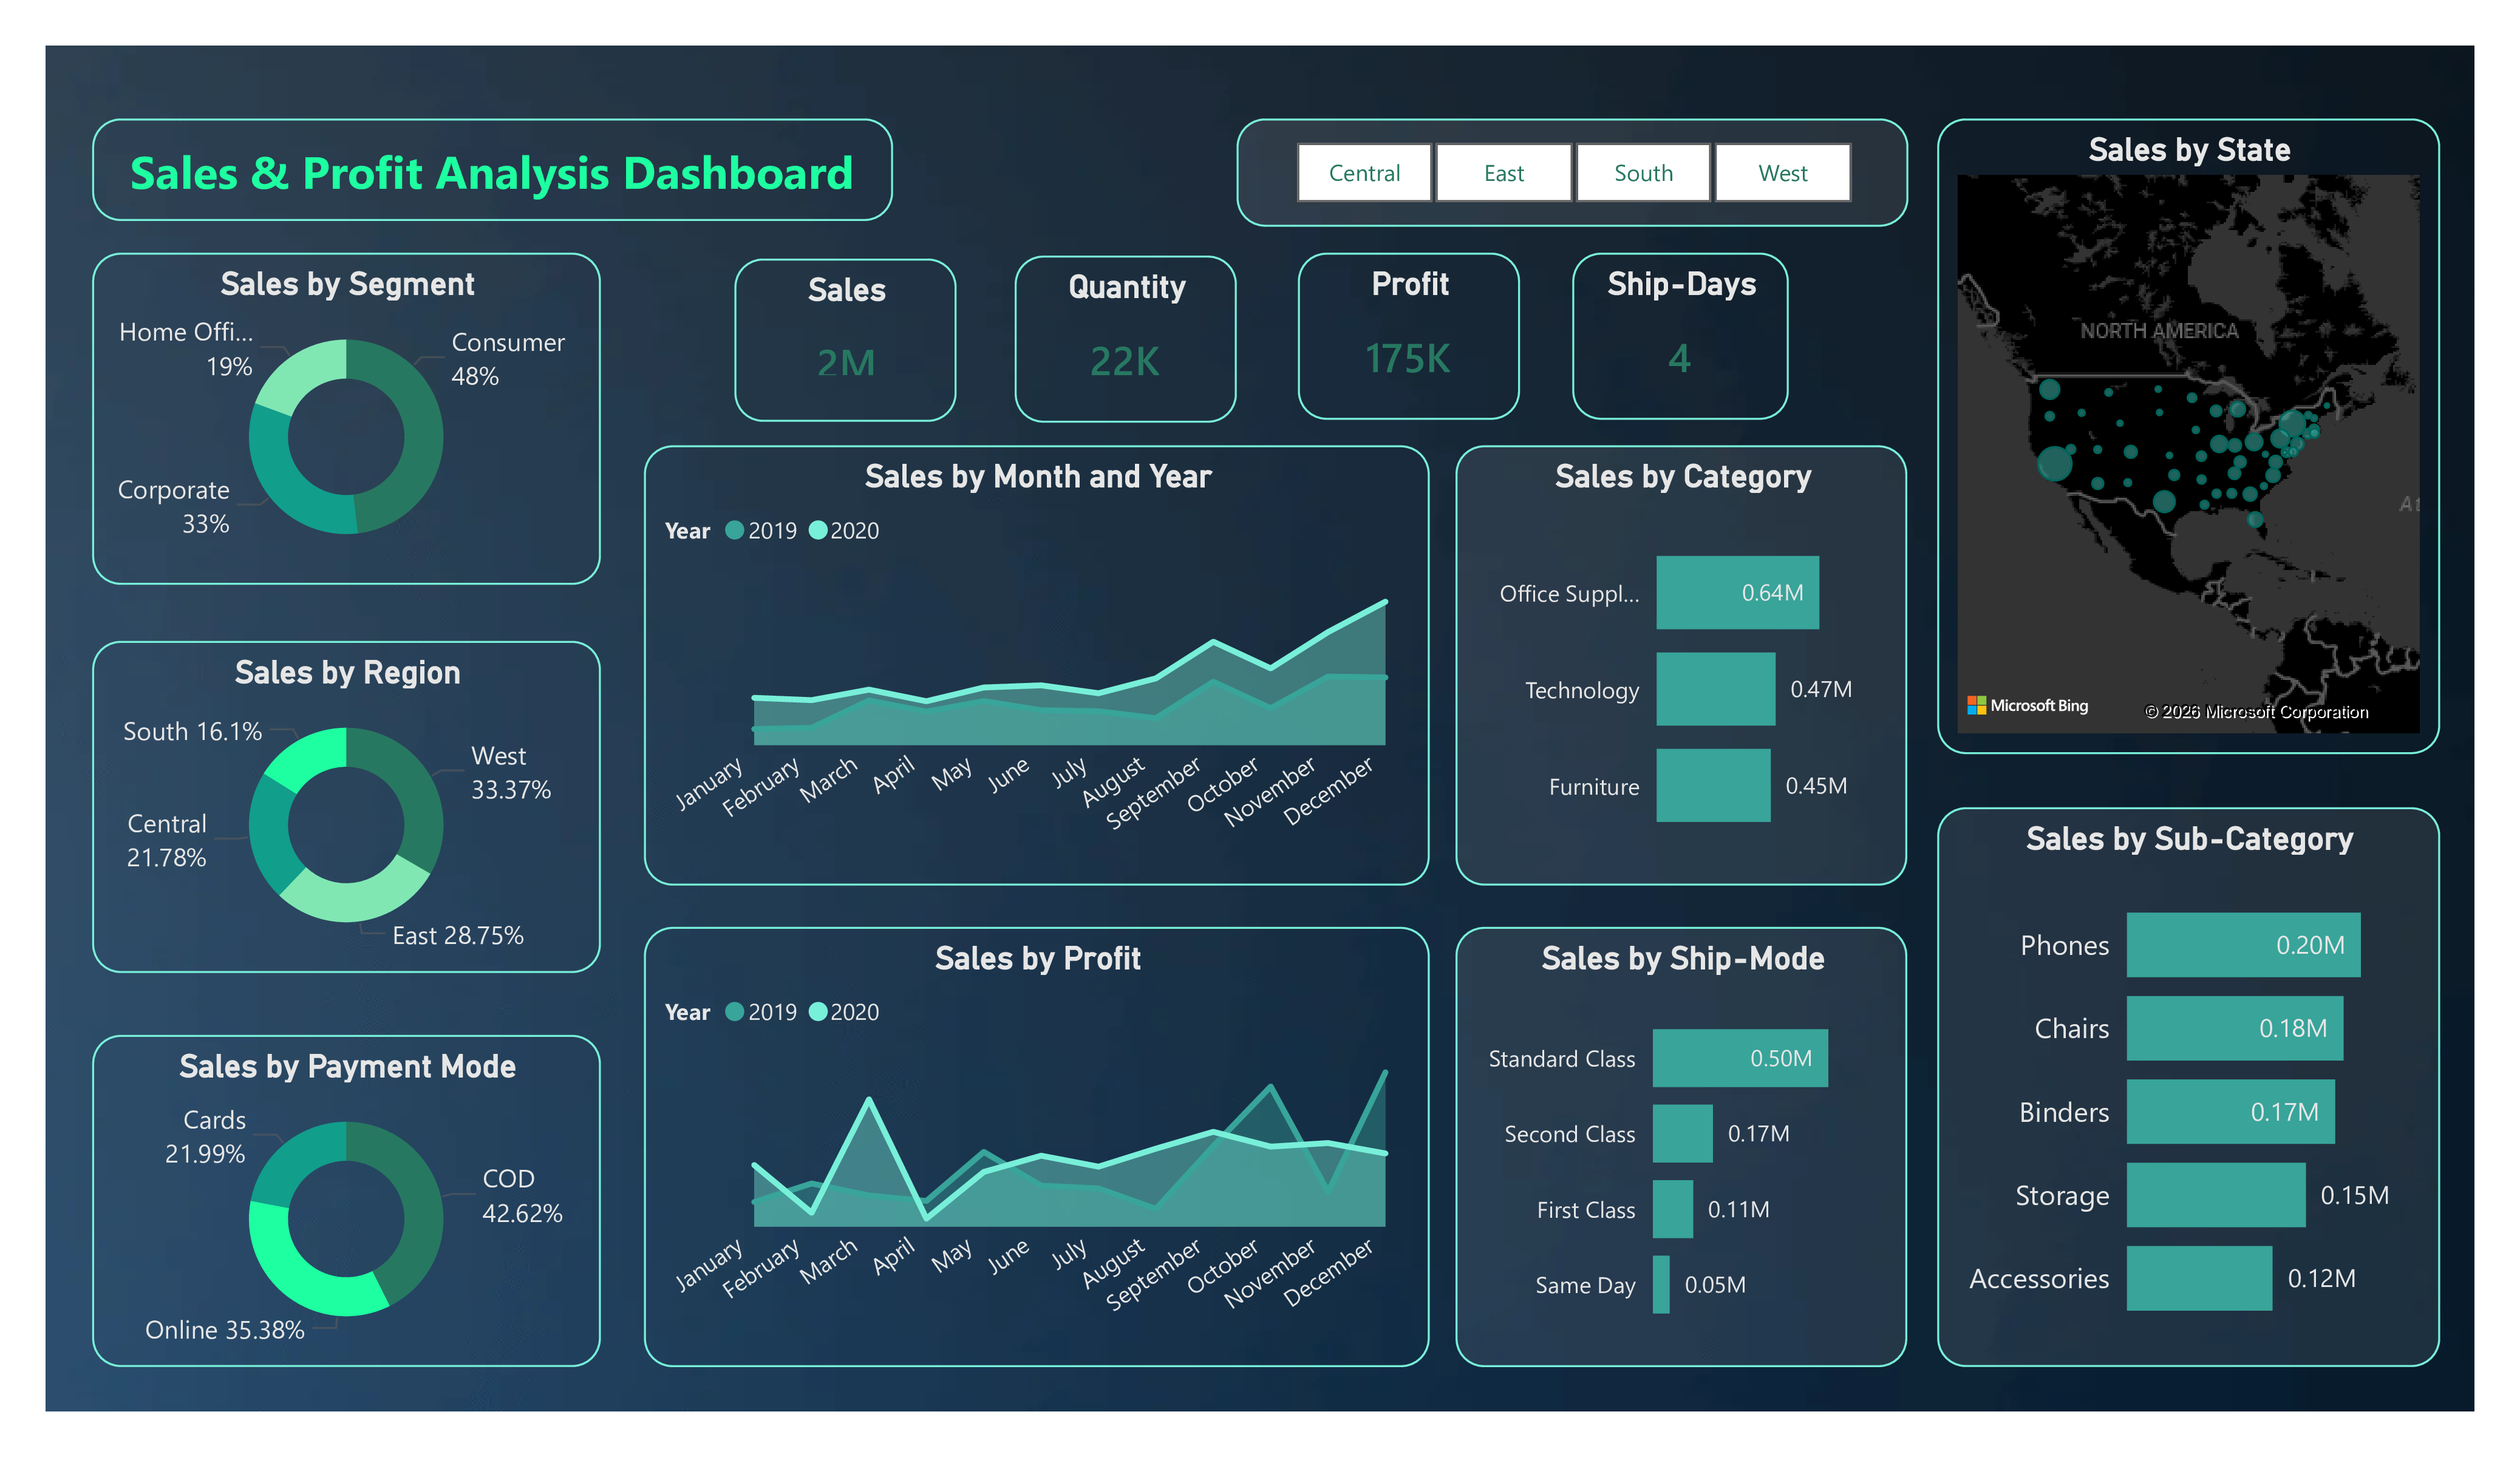

Layout of this report page (visuals, bound fields, positions):
{"tool":"powerbi","page":{"name":"Page 1","canvas":[1280,720],"ordinal":0},"visuals":[{"type":"barChart","title":"Sales by Category","fields":{"Category":["SuperStore_Sales_Dataset.Category"],"Y":["Sum(SuperStore_Sales_Dataset.Sales)"]},"box":[743.1,210.8,238.5,232.3],"z":0},{"type":"barChart","title":"Sales by Sub-Category","fields":{"Y":["Sum(SuperStore_Sales_Dataset.Sales)"],"Category":["SuperStore_Sales_Dataset.Sub-Category"]},"box":[996.9,401.5,264.6,295.4],"z":1000},{"type":"barChart","title":"Sales by Ship-Mode","fields":{"Y":["Sum(SuperStore_Sales_Dataset.Sales)"],"Category":["SuperStore_Sales_Dataset.Ship Mode"]},"box":[743.1,464.6,238.5,232.3],"z":2000},{"type":"areaChart","title":"Sales by Month and Year","fields":{"Category":["SuperStore_Sales_Dataset.Order Date.Variation.Date Hierarchy.Month","SuperStore_Sales_Dataset.Order Date.Variation.Date Hierarchy.Year"],"Y":["Sum(SuperStore_Sales_Dataset.Sales)"],"Series":["SuperStore_Sales_Dataset.Order Date.Variation.Date Hierarchy.Year"]},"box":[315.4,210.8,413.8,232.3],"z":3000},{"type":"areaChart","title":"Sales by Profit","fields":{"Category":["SuperStore_Sales_Dataset.Order Date.Variation.Date Hierarchy.Month","SuperStore_Sales_Dataset.Order Date.Variation.Date Hierarchy.Year"],"Series":["SuperStore_Sales_Dataset.Order Date.Variation.Date Hierarchy.Year"],"Y":["Sum(SuperStore_Sales_Dataset.Profit)"]},"box":[315.4,464.6,413.8,232.3],"z":4000},{"type":"map","title":"Sales by State","fields":{"Category":["SuperStore_Sales_Dataset.State"],"Size":["Sum(SuperStore_Sales_Dataset.Sales)"]},"box":[996.9,38.5,264.6,335.4],"z":5000},{"type":"donutChart","title":"Sales by Segment","fields":{"Category":["SuperStore_Sales_Dataset.Segment"],"Y":["Sum(SuperStore_Sales_Dataset.Sales)"]},"box":[24.6,109.2,267.7,175.4],"z":6000},{"type":"donutChart","title":" Sales by Region","fields":{"Y":["Sum(SuperStore_Sales_Dataset.Sales)"],"Category":["SuperStore_Sales_Dataset.Region"]},"box":[24.6,313.8,267.7,175.4],"z":7000},{"type":"donutChart","title":" Sales by Region","fields":{"Y":["Sum(SuperStore_Sales_Dataset.Sales)"],"Category":["SuperStore_Sales_Dataset.Payment Mode"]},"box":[24.6,521.5,267.7,175.4],"z":8000},{"type":"slicer","fields":{"Values":["SuperStore_Sales_Dataset.Region"]},"box":[627.7,38.5,353.8,56.9],"z":9000},{"type":"textbox","box":[24.6,38.5,421.5,53.8],"z":10000},{"type":"cardVisual","title":"Sales","fields":{"Data":["Sum(SuperStore_Sales_Dataset.Sales)"]},"box":[315.4,109.2,130.8,90.8],"z":11000},{"type":"cardVisual","title":"Quentity","fields":{"Data":["Sum(SuperStore_Sales_Dataset.Quantity)"]},"box":[475.4,109.2,132.3,90.8],"z":12000},{"type":"cardVisual","title":"Profit","fields":{"Data":["Sum(SuperStore_Sales_Dataset.Profit)"]},"box":[640,109.2,141.5,90.8],"z":13000},{"type":"cardVisual","title":"Ship Days","fields":{"Data":["Avg(SuperStore_Sales_Dataset.Avg deliverydays)"]},"box":[815.4,109.2,132.3,90.8],"z":14000}]}

Visuals, with their boxes on the page's 1280x720 design canvas (x1, y1, x2, y2). These are canvas units, not pixel positions in the 2520x1457 screenshot, which may show the page scaled, cropped or inside an application window:
"Sales by Category" barChart: select_region(743, 211, 982, 443)
"Sales by Sub-Category" barChart: select_region(997, 402, 1262, 697)
"Sales by Ship-Mode" barChart: select_region(743, 465, 982, 697)
"Sales by Month and Year" areaChart: select_region(315, 211, 729, 443)
"Sales by Profit" areaChart: select_region(315, 465, 729, 697)
"Sales by State" map: select_region(997, 38, 1262, 374)
"Sales by Segment" donutChart: select_region(25, 109, 292, 285)
" Sales by Region" donutChart: select_region(25, 314, 292, 489)
" Sales by Region" donutChart: select_region(25, 522, 292, 697)
slicer - SuperStore_Sales_Dataset.Region: select_region(628, 38, 982, 95)
textbox: select_region(25, 38, 446, 92)
"Sales" cardVisual: select_region(315, 109, 446, 200)
"Quentity" cardVisual: select_region(475, 109, 608, 200)
"Profit" cardVisual: select_region(640, 109, 782, 200)
"Ship Days" cardVisual: select_region(815, 109, 948, 200)
